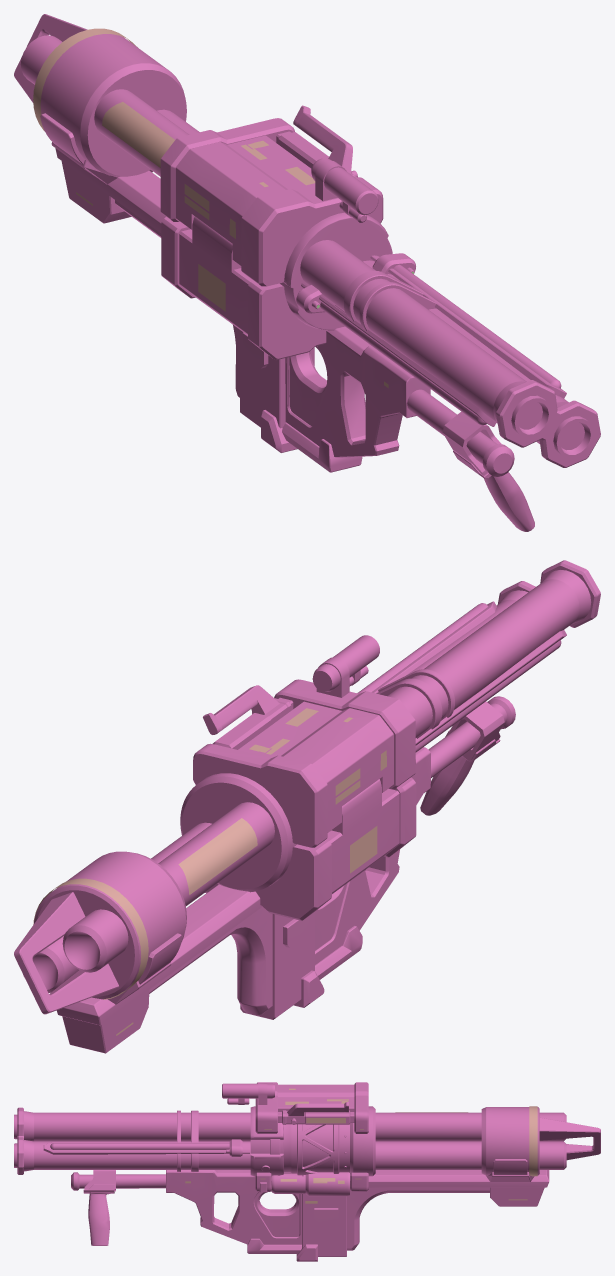
3 renders of one model, top to bottom at view 1: azimuth 30°, elevation 25°; view 2: azimuth 150°, elevation 25°; view 3: azimuth 270°, elevation 25°, orthographic. The views are drawn at different scales.
Visible parts, largest first — view 1: v_m41_rocket_base.001, v_m41_rocket_tubes.001, v_m41_rocket_tubes.002, v_m41_rocket_base; view 2: v_m41_rocket_base.001, v_m41_rocket_tubes.001, v_m41_rocket_tubes.002, v_m41_rocket_base; view 3: v_m41_rocket_tubes.001, v_m41_rocket_base.001, v_m41_rocket_base, v_m41_rocket_tubes.002.
Part boxes in pixels (left/top/right/bottom): v_m41_rocket_base.001: left=40, top=105, right=534, bottom=531; v_m41_rocket_tubes.001: left=14, top=14, right=600, bottom=467; v_m41_rocket_tubes.002: left=33, top=28, right=174, bottom=167; v_m41_rocket_base: left=76, top=140, right=388, bottom=388; v_m41_rocket_base.001: left=56, top=635, right=515, bottom=1053; v_m41_rocket_tubes.001: left=14, top=560, right=600, bottom=1014; v_m41_rocket_tubes.002: left=33, top=818, right=257, bottom=999; v_m41_rocket_base: left=116, top=708, right=386, bottom=1035; v_m41_rocket_tubes.001: left=14, top=1106, right=600, bottom=1176; v_m41_rocket_base.001: left=71, top=1082, right=549, bottom=1261; v_m41_rocket_base: left=185, top=1088, right=527, bottom=1203; v_m41_rocket_tubes.002: left=395, top=1106, right=537, bottom=1176.
Size of the model in its own units: 780 by 1694 by 5237.
